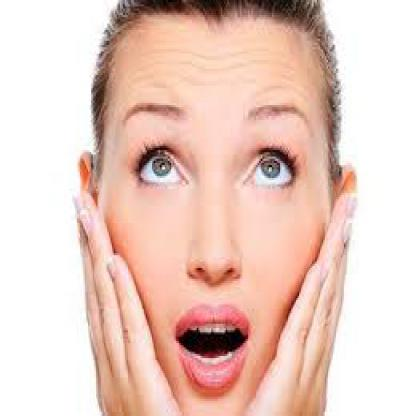wrinkle: (130, 34, 320, 99)
